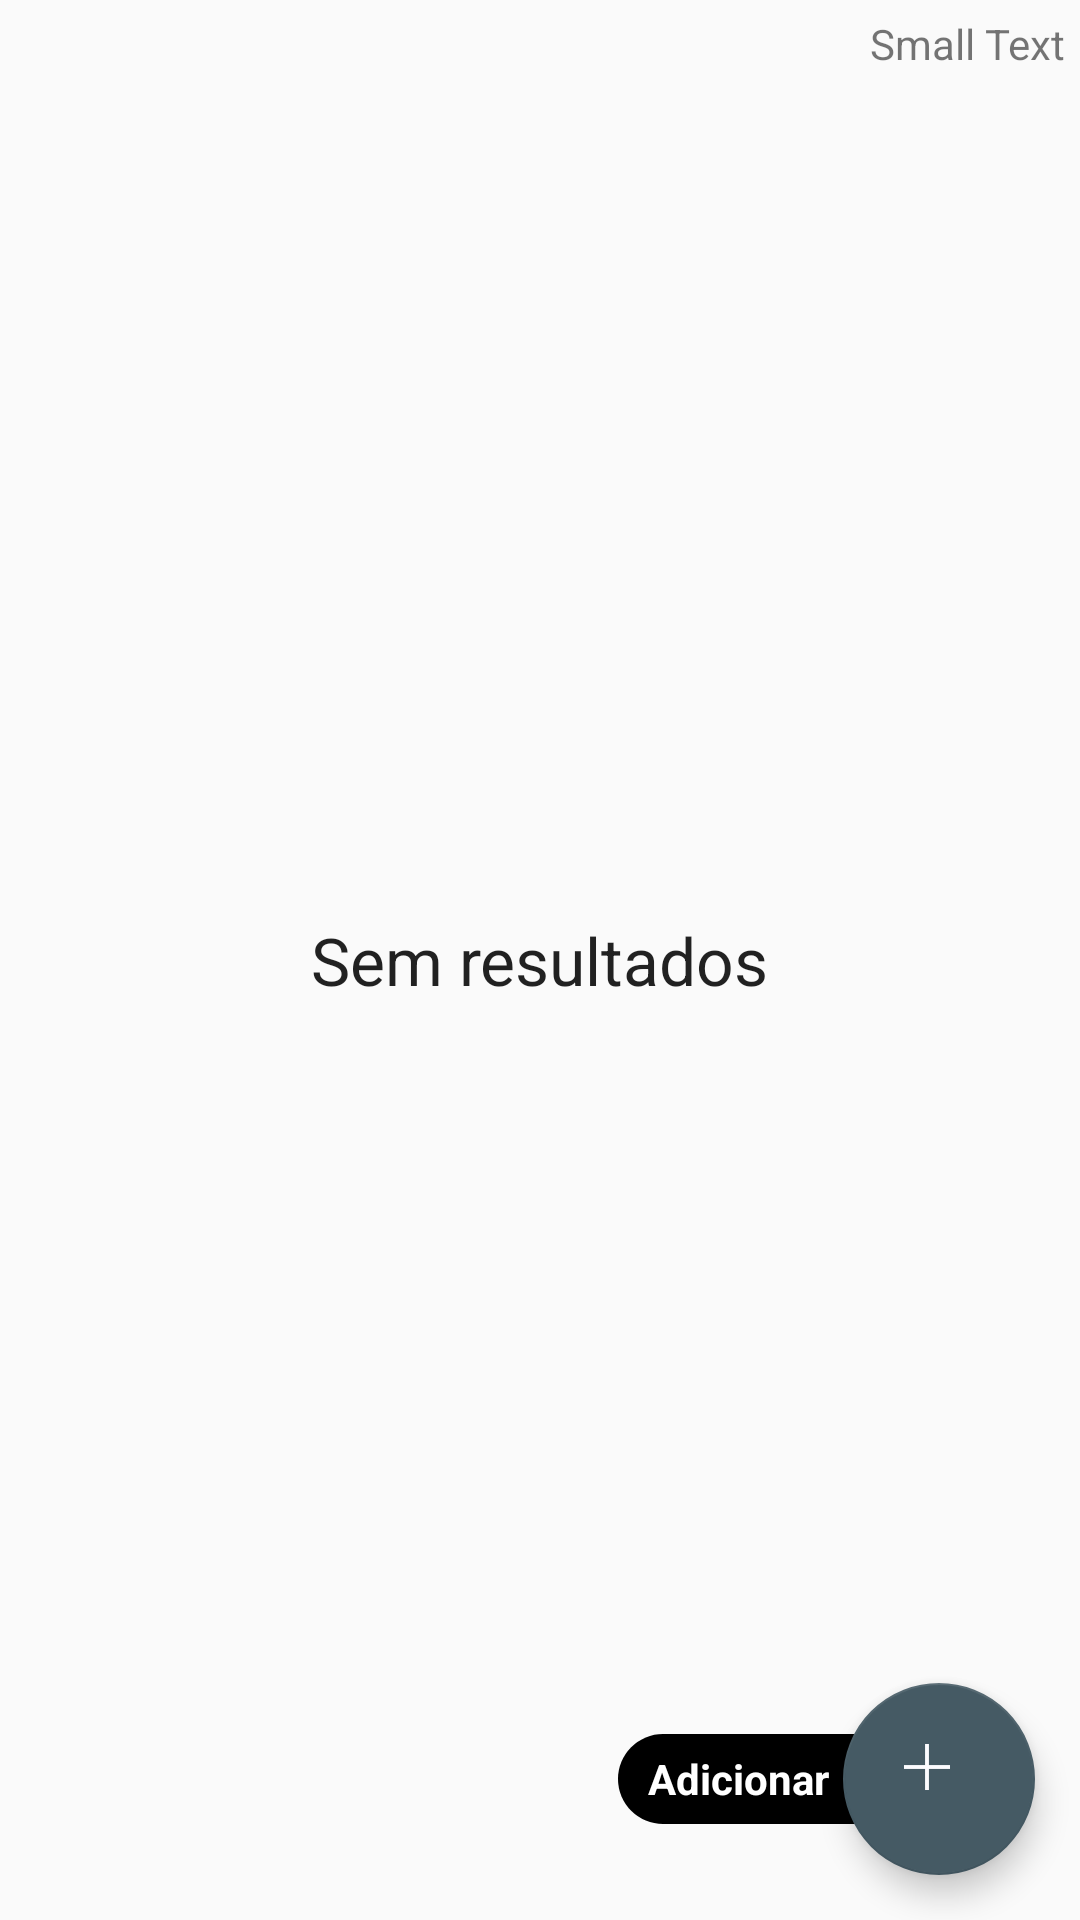

Screen size 1080px×1920px. Icon name, then its center in pixels as point (x, y):
plus: point (939, 1779)
